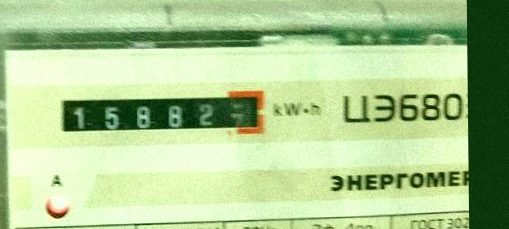1: (72, 105, 87, 130)
2: (198, 100, 215, 127)
5: (103, 104, 120, 130)
7: (229, 110, 244, 126)
8: (134, 104, 152, 128), (166, 102, 183, 127)
screen: (48, 83, 275, 145)
